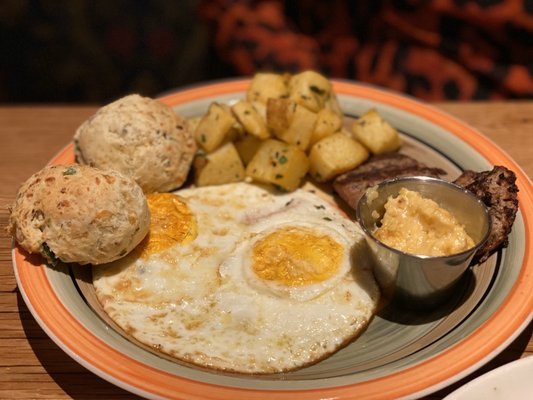sushi: (355, 175, 491, 315)
